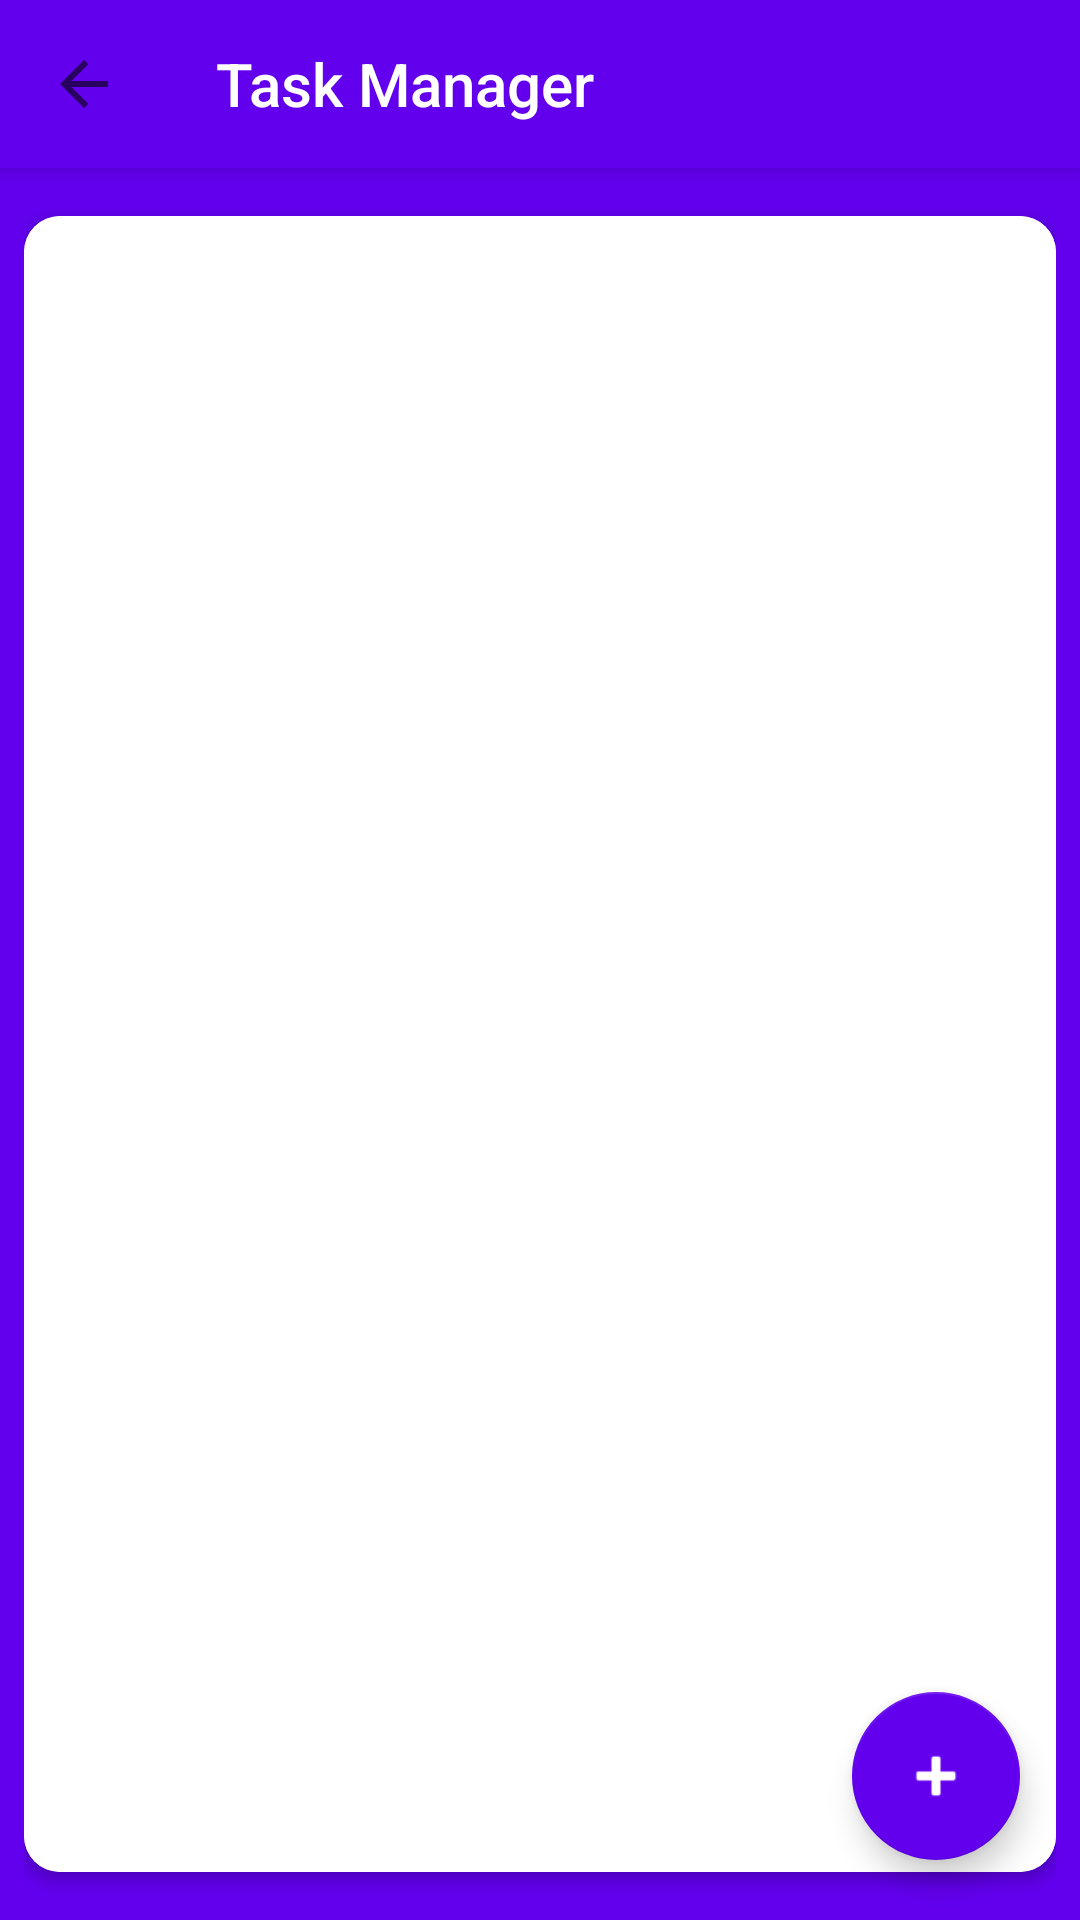

Locate icon controls on the screen. Image size 1080px×1920px, boxes as (x1, y1, x2, y2).
Add Task: (852, 1692, 1020, 1860)
